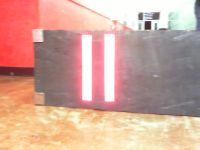switch: (103, 33, 115, 102), (80, 35, 92, 101)
